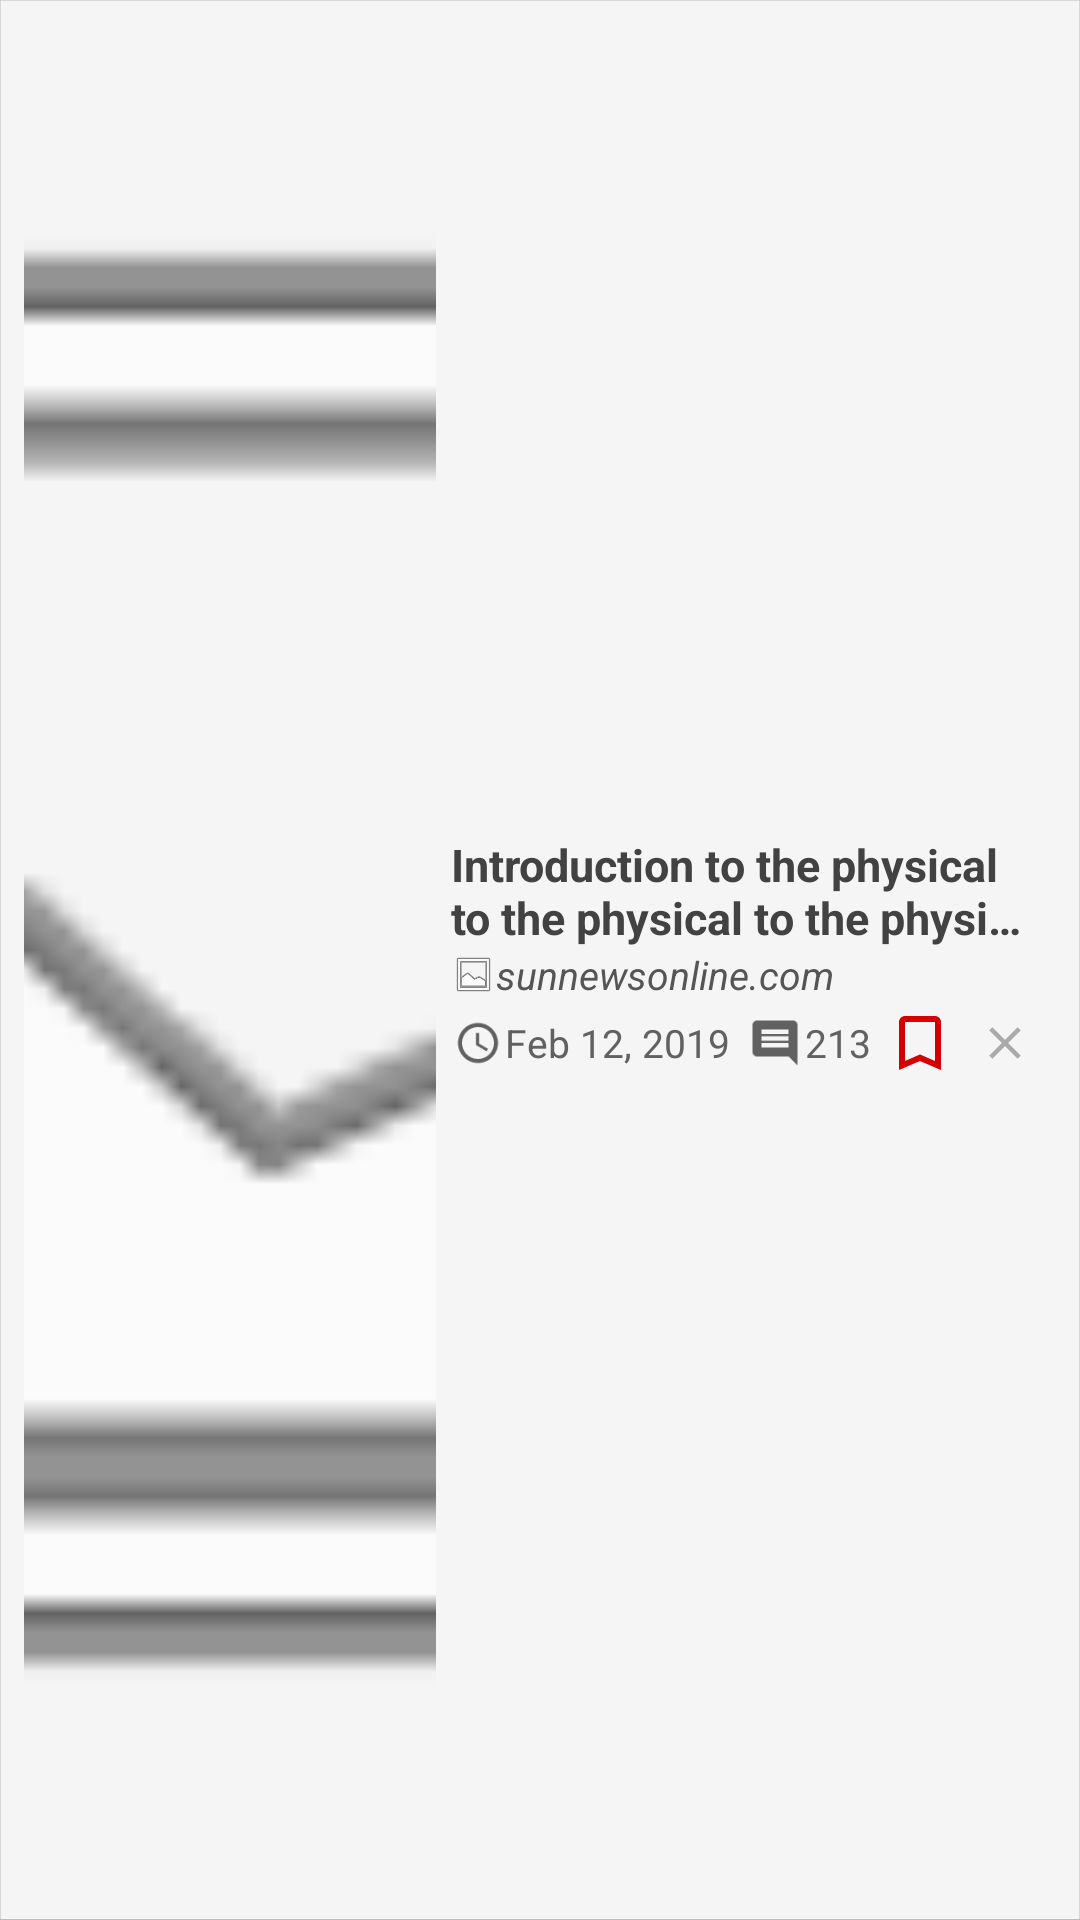

Where icons sit on this 1080×1920 app screen, as (x1, y1, x2, y2):
access time: (457, 1022, 499, 1064)
bookmark border: (899, 1016, 941, 1070)
clear: (989, 1027, 1021, 1059)
comment: (752, 1020, 798, 1065)
